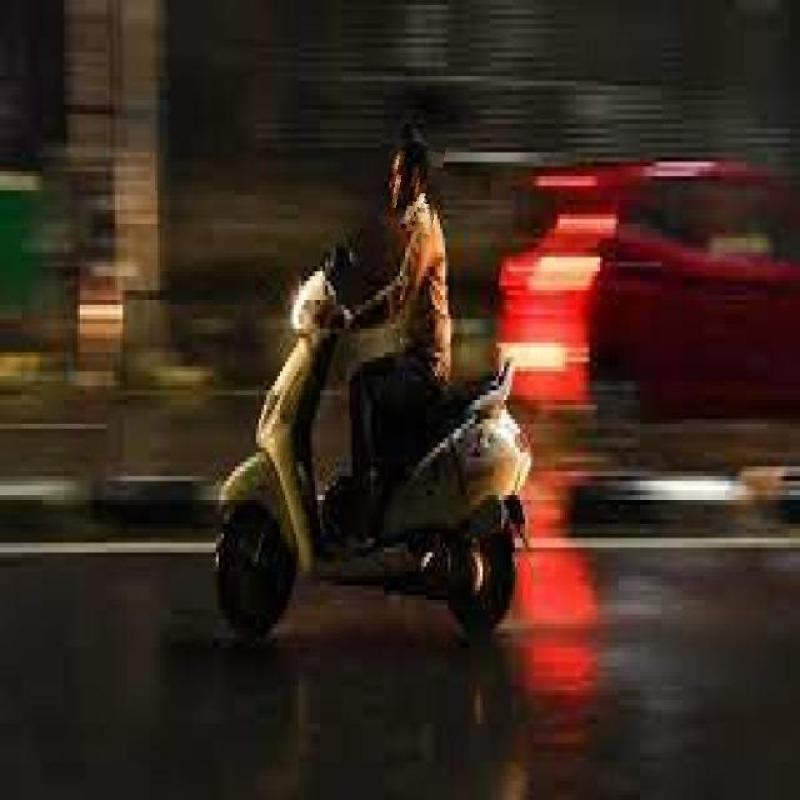nohelmet: (369, 138, 442, 233)
